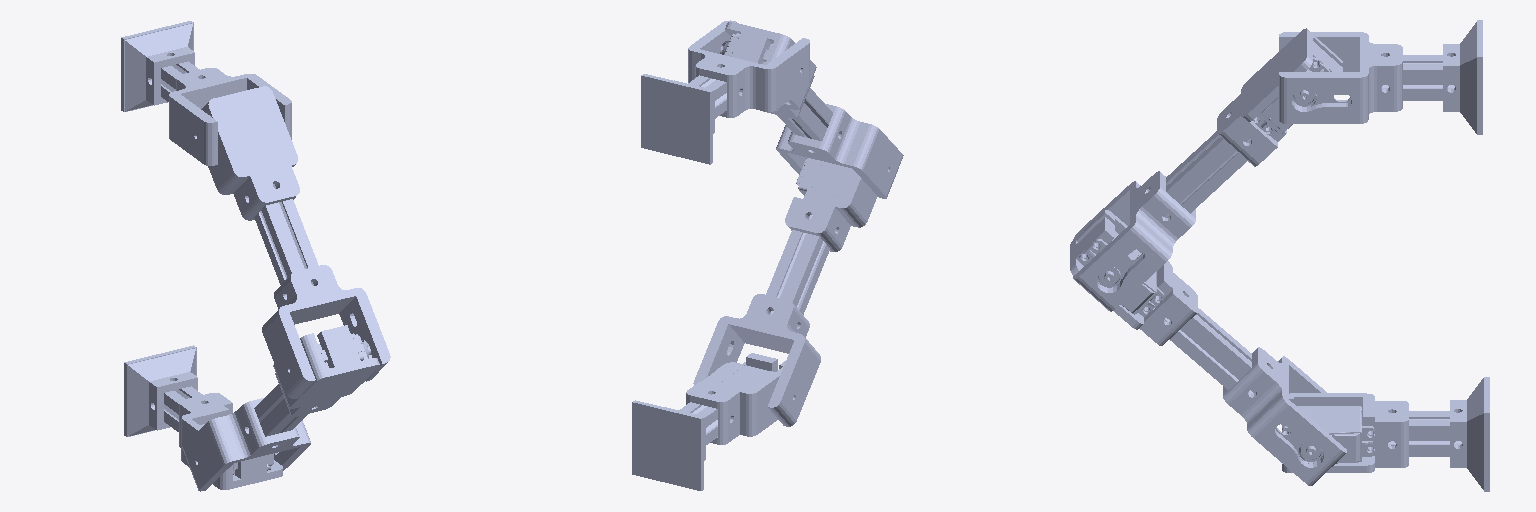
URDF robot description (smart_scaffolding):
<?xml version="1.0" encoding="utf-8"?>
<!-- This URDF was automatically created by SolidWorks to URDF Exporter! Originally created by [author] ([email redacted]) 
     Commit Version: 1.5.1-0-g916b5db  Build Version: 1.5.7152.31018
     For more information, please see http://wiki.ros.org/sw_urdf_exporter -->
<robot
  name="smart_scaffolding">
  <link
    name="base_link">
    <inertial>
      <origin
        xyz="-0.00167670814824843 -0.00124913688864695 0.064051820417217"
        rpy="0 0 0" />
      <mass
        value="0.106288836388757" />
      <inertia
        ixx="3.790587396713E-05"
        ixy="9.22309781853357E-07"
        ixz="1.67520759799362E-06"
        iyy="4.37509049186189E-05"
        iyz="1.20055006036103E-06"
        izz="2.53300051017029E-05" />
    </inertial>
    <visual>
      <origin
        xyz="0 0 0"
        rpy="0 0 0" />
      <geometry>
        <mesh
          filename="package://First_Iteration_Assem/meshes/base_link.STL" />
      </geometry>
      <material
        name="">
        <color
          rgba="0.792156862745098 0.819607843137255 0.933333333333333 1" />
      </material>
    </visual>
    <collision>
      <origin
        xyz="0 0 0"
        rpy="0 0 0" />
      <geometry>
        <mesh
          filename="package://First_Iteration_Assem/meshes/base_link.STL" />
      </geometry>
    </collision>
  </link>
  <link
    name="link_1">
    <inertial>
      <origin
        xyz="0.00329739815166044 -0.00108860830320483 -0.102287417098408"
        rpy="0 0 0" />
      <mass
        value="0.121962443659576" />
      <inertia
        ixx="5.58178420757154E-05"
        ixy="-9.22310577841897E-07"
        ixz="5.4022372955156E-07"
        iyy="7.68589276177781E-05"
        iyz="-1.20055002941655E-06"
        izz="3.80222625240213E-05" />
    </inertial>
    <visual>
      <origin
        xyz="0 0 0"
        rpy="0 0 0" />
      <geometry>
        <mesh
          filename="package://First_Iteration_Assem/meshes/link_1.STL" />
      </geometry>
      <material
        name="">
        <color
          rgba="0.792156862745098 0.819607843137255 0.933333333333333 1" />
      </material>
    </visual>
    <collision>
      <origin
        xyz="0 0 0"
        rpy="0 0 0" />
      <geometry>
        <mesh
          filename="package://First_Iteration_Assem/meshes/link_1.STL" />
      </geometry>
    </collision>
  </link>
  <joint
    name="joint_1"
    type="continuous">
    <origin
      xyz="0 -0.10478 -0.0002"
      rpy="2.3309 0 3.1416" />
    <parent
      link="base_link" />
    <child
      link="link_1" />
    <axis
      xyz="-1 0 0" />
  </joint>
  <link
    name="link_2">
    <inertial>
      <origin
        xyz="0.0264753506561459 0.0139113916966098 -0.117287417095412"
        rpy="0 0 0" />
      <mass
        value="0.121962443652196" />
      <inertia
        ixx="5.58178420730298E-05"
        ixy="-9.22310577651571E-07"
        ixz="5.40223726957375E-07"
        iyy="7.68589276142313E-05"
        iyz="-1.20055002970277E-06"
        izz="3.80222625225677E-05" />
    </inertial>
    <visual>
      <origin
        xyz="0 0 0"
        rpy="0 0 0" />
      <geometry>
        <mesh
          filename="package://First_Iteration_Assem/meshes/link_2.STL" />
      </geometry>
      <material
        name="">
        <color
          rgba="0.792156862745098 0.819607843137255 0.933333333333333 1" />
      </material>
    </visual>
    <collision>
      <origin
        xyz="0 0 0"
        rpy="0 0 0" />
      <geometry>
        <mesh
          filename="package://First_Iteration_Assem/meshes/link_2.STL" />
      </geometry>
    </collision>
  </link>
  <joint
    name="joint_2"
    type="continuous">
    <origin
      xyz="-0.02165 -0.014921 -0.17859"
      rpy="1.5892 0 0" />
    <parent
      link="link_1" />
    <child
      link="link_2" />
    <axis
      xyz="-1 0 0" />
  </joint>
  <link
    name="link_3">
    <inertial>
      <origin
        xyz="0.000881125443796591 0.0443438314640521 -1.94289029309402E-15"
        rpy="0 0 0" />
      <mass
        value="0.0742125648272151" />
      <inertia
        ixx="2.72135201538739E-05"
        ixy="-1.13499847698934E-06"
        ixz="-6.35192694236914E-20"
        iyy="3.21039471722149E-05"
        iyz="-2.37439894783956E-21"
        izz="4.24100906081661E-05" />
    </inertial>
    <visual>
      <origin
        xyz="0 0 0"
        rpy="0 0 0" />
      <geometry>
        <mesh
          filename="package://First_Iteration_Assem/meshes/link_3.STL" />
      </geometry>
      <material
        name="">
        <color
          rgba="0.792156862745098 0.819607843137255 0.933333333333333 1" />
      </material>
    </visual>
    <collision>
      <origin
        xyz="0 0 0"
        rpy="0 0 0" />
      <geometry>
        <mesh
          filename="package://First_Iteration_Assem/meshes/link_3.STL" />
      </geometry>
    </collision>
  </link>
  <joint
    name="joint_3"
    type="continuous">
    <origin
      xyz="0.02595 0.086907 -0.24944"
      rpy="2.3631 0 0" />
    <parent
      link="link_2" />
    <child
      link="link_3" />
    <axis
      xyz="-1 0 0" />
  </joint>

<transmission name="t_joint_1">
    <type>transmission_interface/SimpleTransmission</type>
    <joint name="joint_1">
      <hardwareInterface>EffortJointInterface</hardwareInterface>
    </joint>
    <actuator name="m_joint_1">
      <hardwareInterface>EffortJointInterface</hardwareInterface>
      <mechanicalReduction>1</mechanicalReduction>
    </actuator>
</transmission>
<transmission name="t_joint_2">
    <type>transmission_interface/SimpleTransmission</type>
    <joint name="joint_2">
      <hardwareInterface>EffortJointInterface</hardwareInterface>
    </joint>
    <actuator name="m_joint_2">
      <hardwareInterface>EffortJointInterface</hardwareInterface>
      <mechanicalReduction>1</mechanicalReduction>
    </actuator>
</transmission>
<transmission name="t_joint_3">
    <type>transmission_interface/SimpleTransmission</type>
    <joint name="joint_3">
      <hardwareInterface>EffortJointInterface</hardwareInterface>
    </joint>
    <actuator name="m_joint_3">
      <hardwareInterface>EffortJointInterface</hardwareInterface>
      <mechanicalReduction>1</mechanicalReduction>
    </actuator>
</transmission>
  <gazebo>
  <plugin name="gazebo_ros_control" filename="libgazebo_ros_control.so">
    <robotNamespace>/smart_scaffolding</robotNamespace>
    <legacyModeNS>true</legacyModeNS>
  </plugin>
</gazebo>
</robot>

--- What the picture shows (computed from the rendered views, not written in the file) ---
3 views of the same robot in one strip: view 1: azimuth 30°, elevation 25°; view 2: azimuth 150°, elevation 25°; view 3: azimuth 270°, elevation 25° (orthographic).
Model smart_scaffolding with 4 links and 3 joints (3 continuous), rooted at base_link, posed every joint at zero.
Links seen in each view (by area): view 1: link_2, link_1, link_3, base_link; view 2: link_1, link_3, base_link, link_2; view 3: link_2, link_1, link_3, base_link.
Link boxes in pixels (<box>): link_2: <box>201,86,390,398</box>; link_1: <box>182,325,379,491</box>; link_3: <box>121,21,291,165</box>; base_link: <box>124,345,282,489</box>; link_1: <box>693,157,877,426</box>; link_3: <box>641,20,809,164</box>; base_link: <box>632,353,785,490</box>; link_2: <box>720,22,903,198</box>; link_2: <box>1073,28,1342,311</box>; link_1: <box>1070,210,1346,485</box>; link_3: <box>1279,20,1482,134</box>; base_link: <box>1282,377,1489,491</box>.
Bounding box of the posed robot: 0.0665 × 0.2462 × 0.2794 m (x, y, z).
4 mesh visuals loaded from 4 distinct referenced files (4 binary STL).